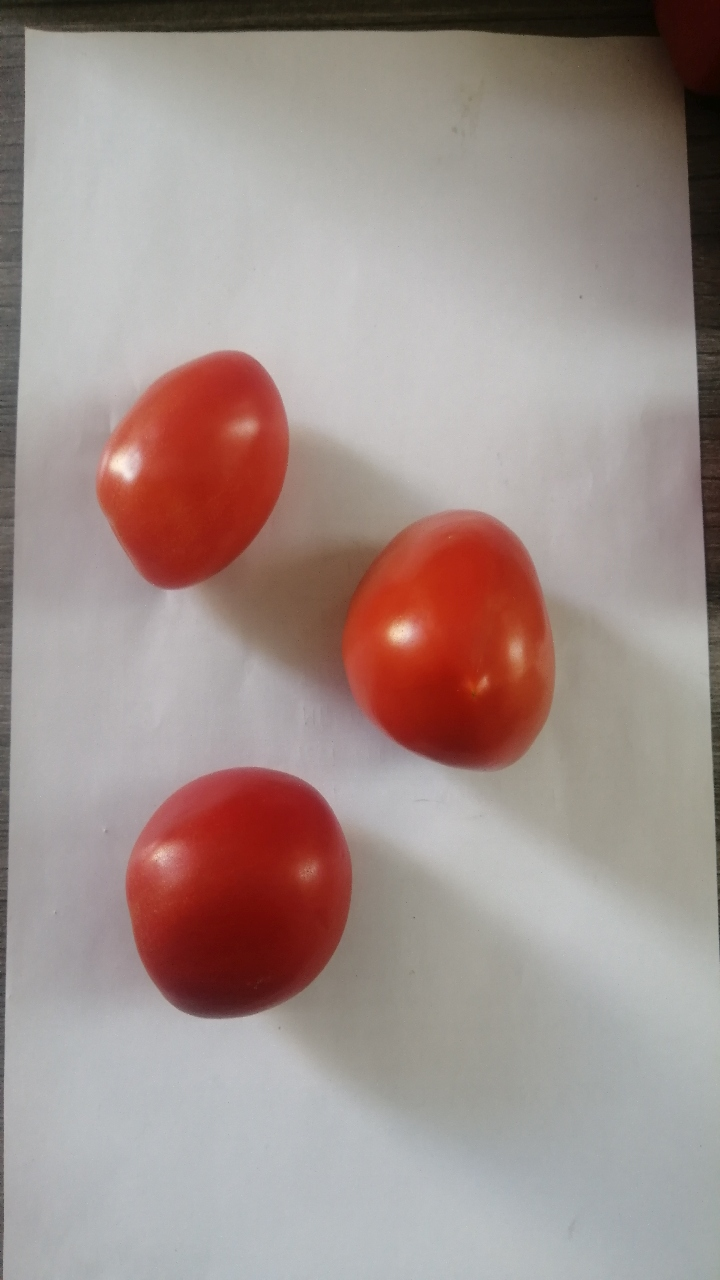tomateRojo: (109, 740, 375, 1034), (314, 489, 583, 777), (75, 315, 312, 617)
